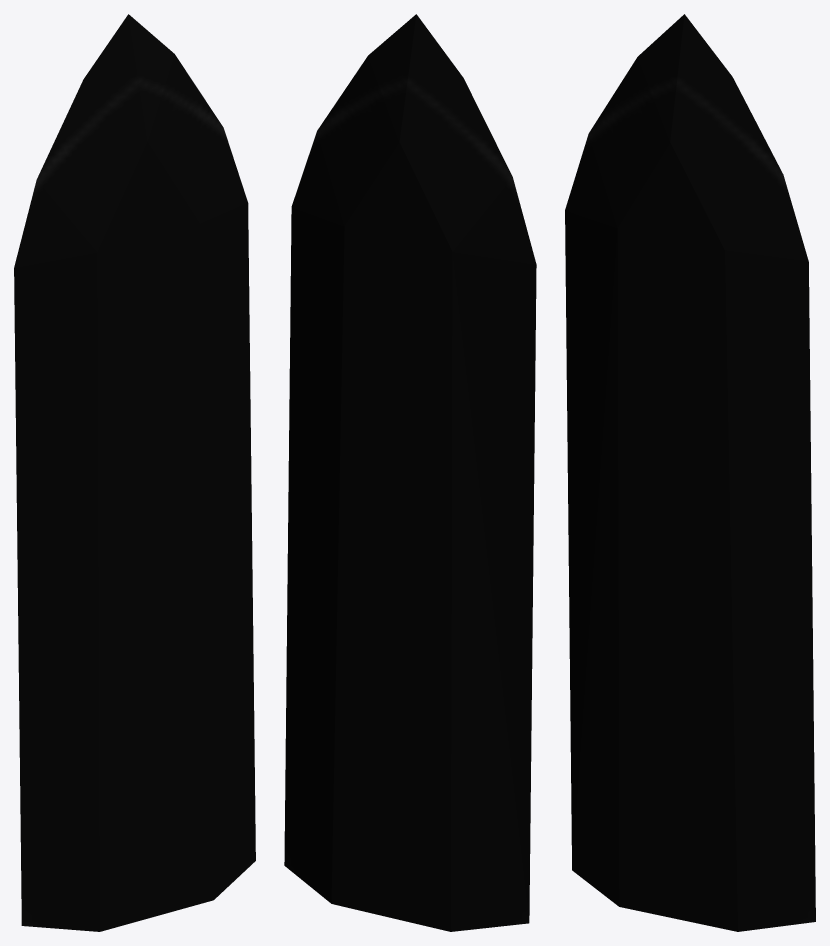
File: 0341_jianmang.glb
3 views of the same model, side by side, from view 1: azimuth 30°, elevation 25°; view 2: azimuth 150°, elevation 25°; view 3: azimuth 330°, elevation 25° (orthographic).
Size of the model in its own units: 0.636 by 2.2 by 0.1616.
1 material, 1 textured.
